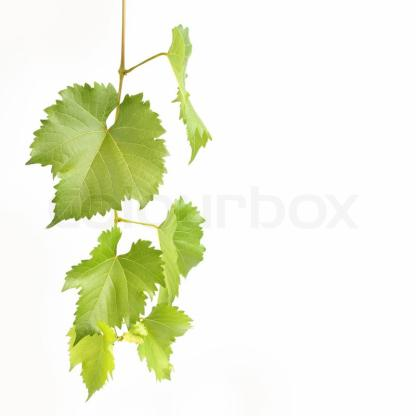grape leaf: (13, 83, 173, 232), (58, 229, 166, 346), (167, 17, 223, 165), (150, 199, 213, 306), (133, 300, 196, 385), (53, 330, 121, 407)
